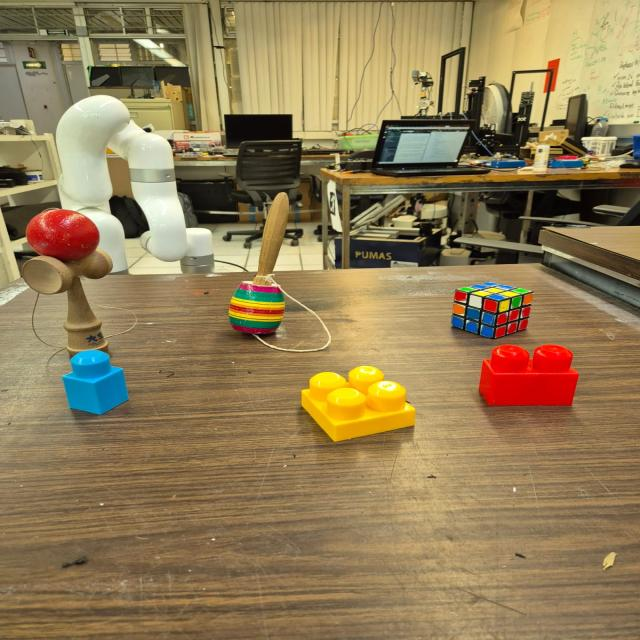balero: (224, 186, 333, 356)
balero ball: (16, 207, 134, 360)
lego 2: (480, 345, 580, 406)
lego 4: (297, 366, 419, 444)
lego_1: (59, 347, 131, 419)
rubick: (443, 279, 538, 340)
